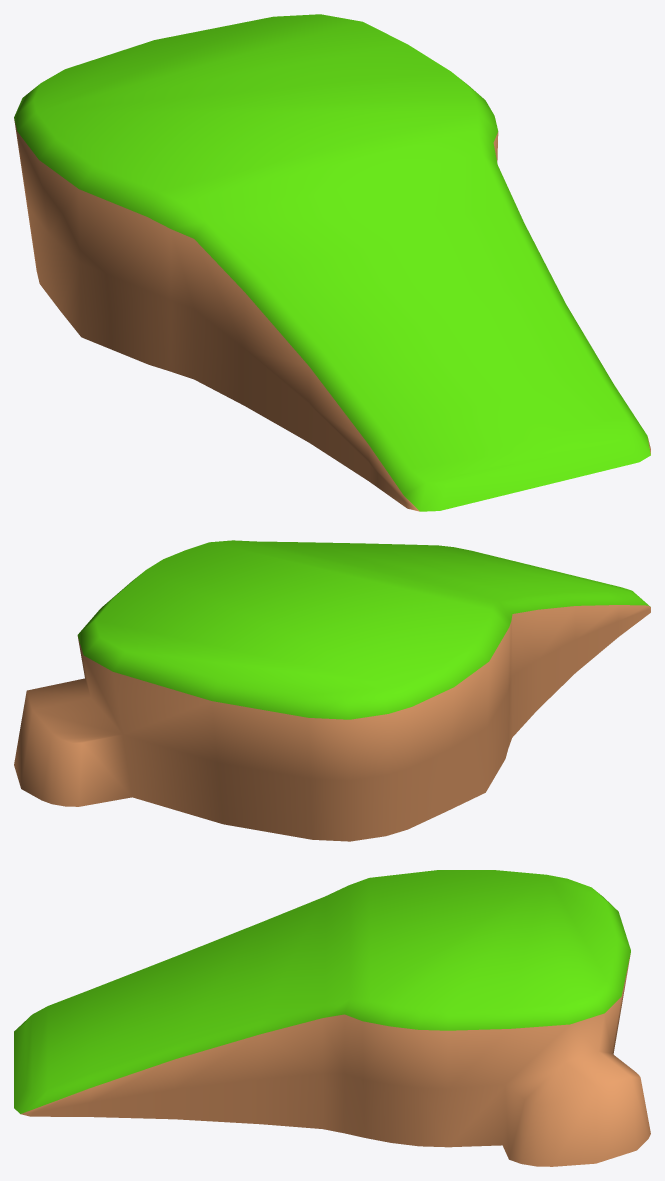
The model's file is Clif_1.fbx.
The picture shows the model from 3 angles, top to bottom: view 1: azimuth 30°, elevation 25°; view 2: azimuth 150°, elevation 25°; view 3: azimuth 270°, elevation 25°; orthographic projection. The views are drawn at different scales.
Visible parts, largest first — view 1: Clif_1; view 2: Clif_1; view 3: Clif_1.
Part boxes in pixels (x1=…): Clif_1: x1=14, y1=14, x2=650, y2=511; Clif_1: x1=14, y1=540, x2=650, y2=841; Clif_1: x1=14, y1=870, x2=650, y2=1166.
Bounding box in the file's own units: 6.01 × 2.16 × 9.44.
